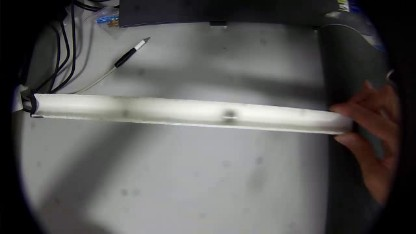gangzhu: (221, 109, 236, 123)
